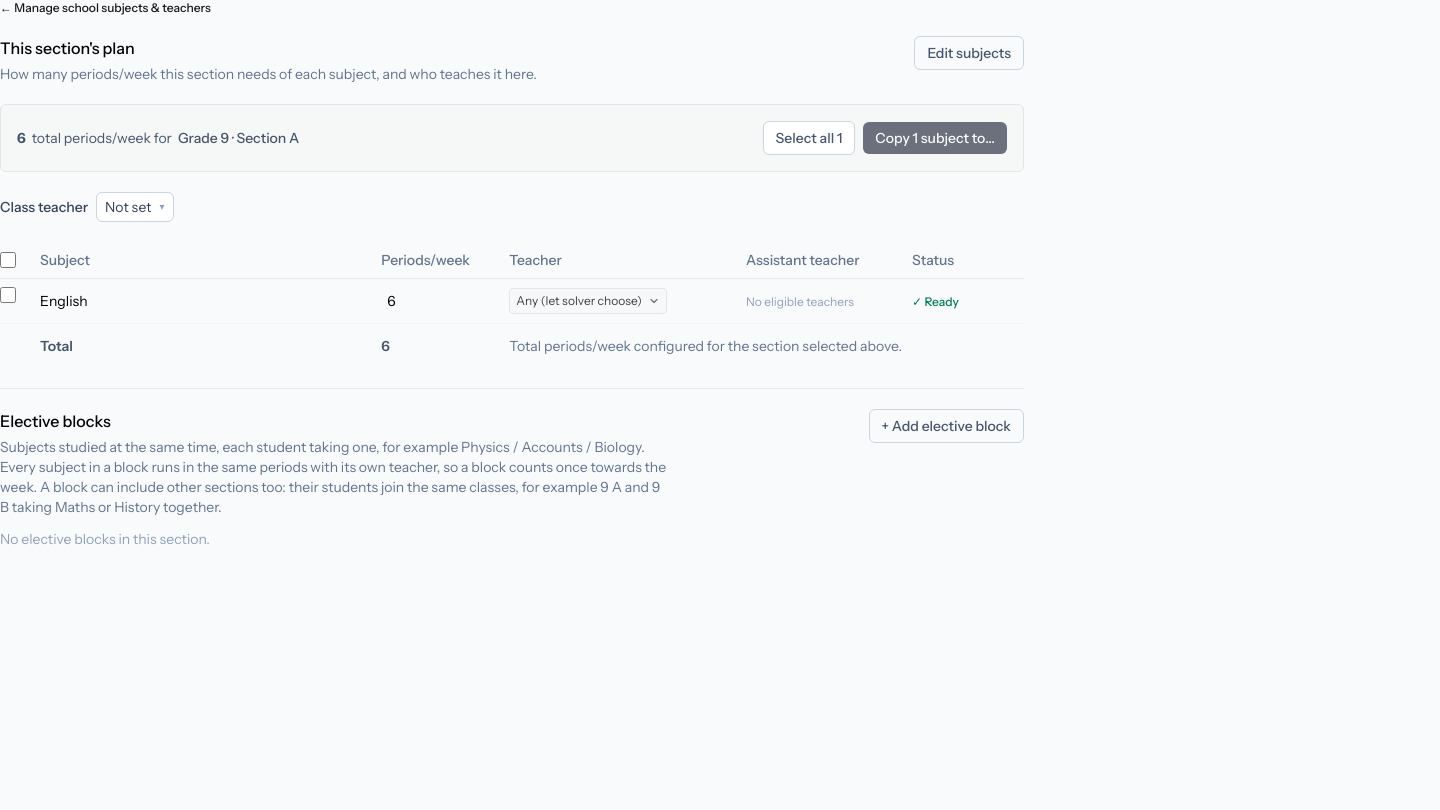
an older server that ignores teacher lists › says the list was not saved instead of silently showing Any
Click the button named "teachers for english" at (588, 301), box x1=509 y1=288 x2=667 y2=314
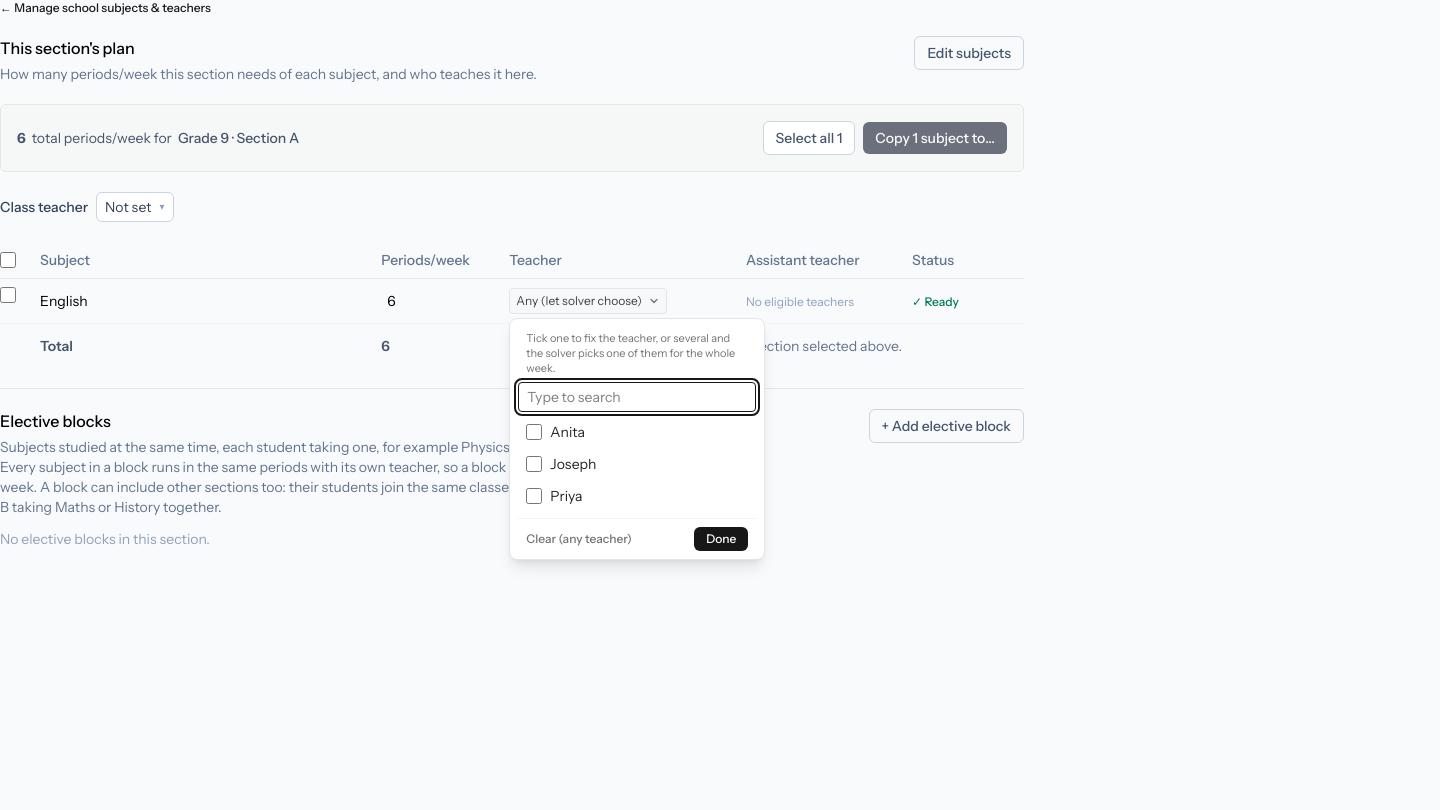
Click the checkbox labelled "Priya" at (534, 496), box x1=526 y1=488 x2=542 y2=504
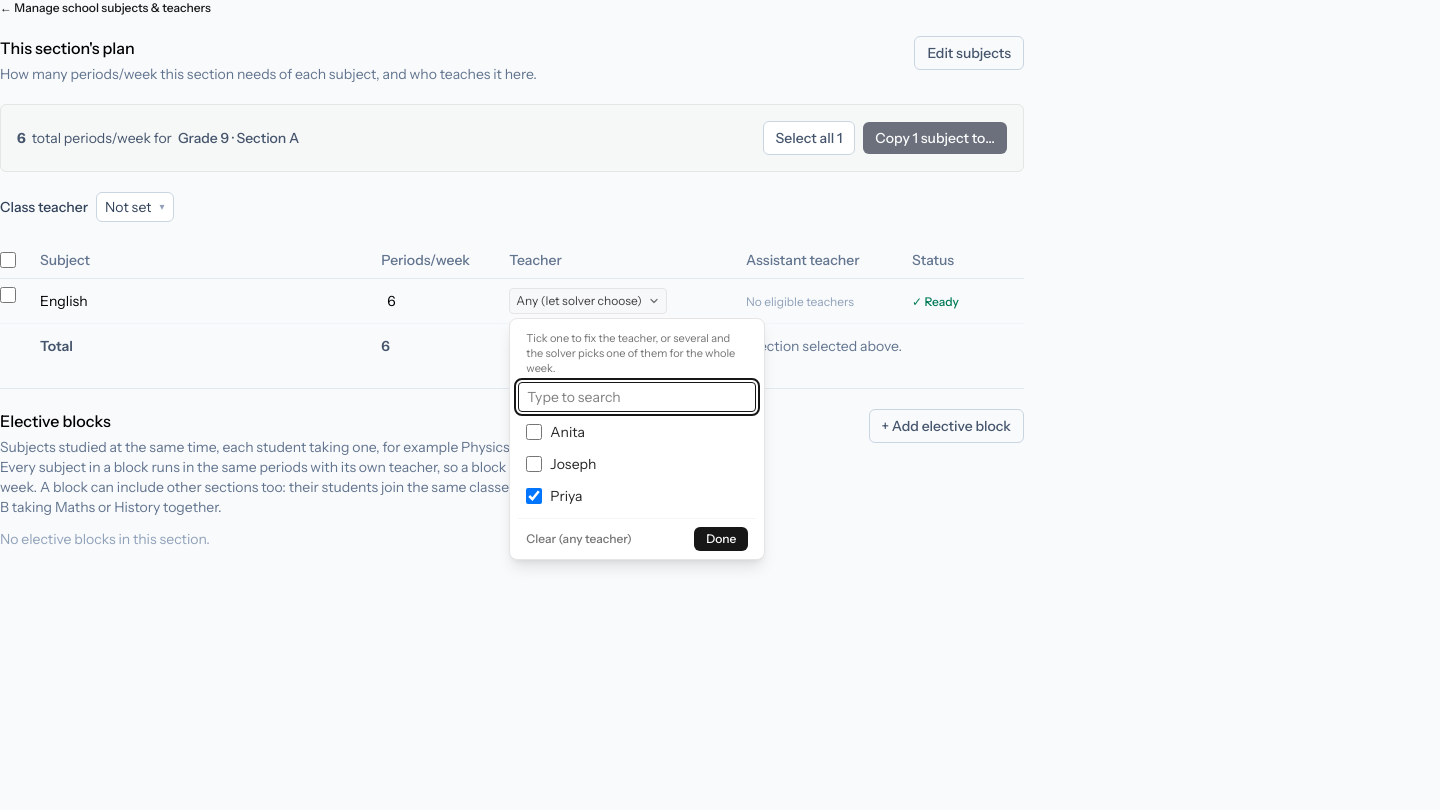
Click the checkbox labelled "Joseph" at (534, 464), box x1=526 y1=456 x2=542 y2=472
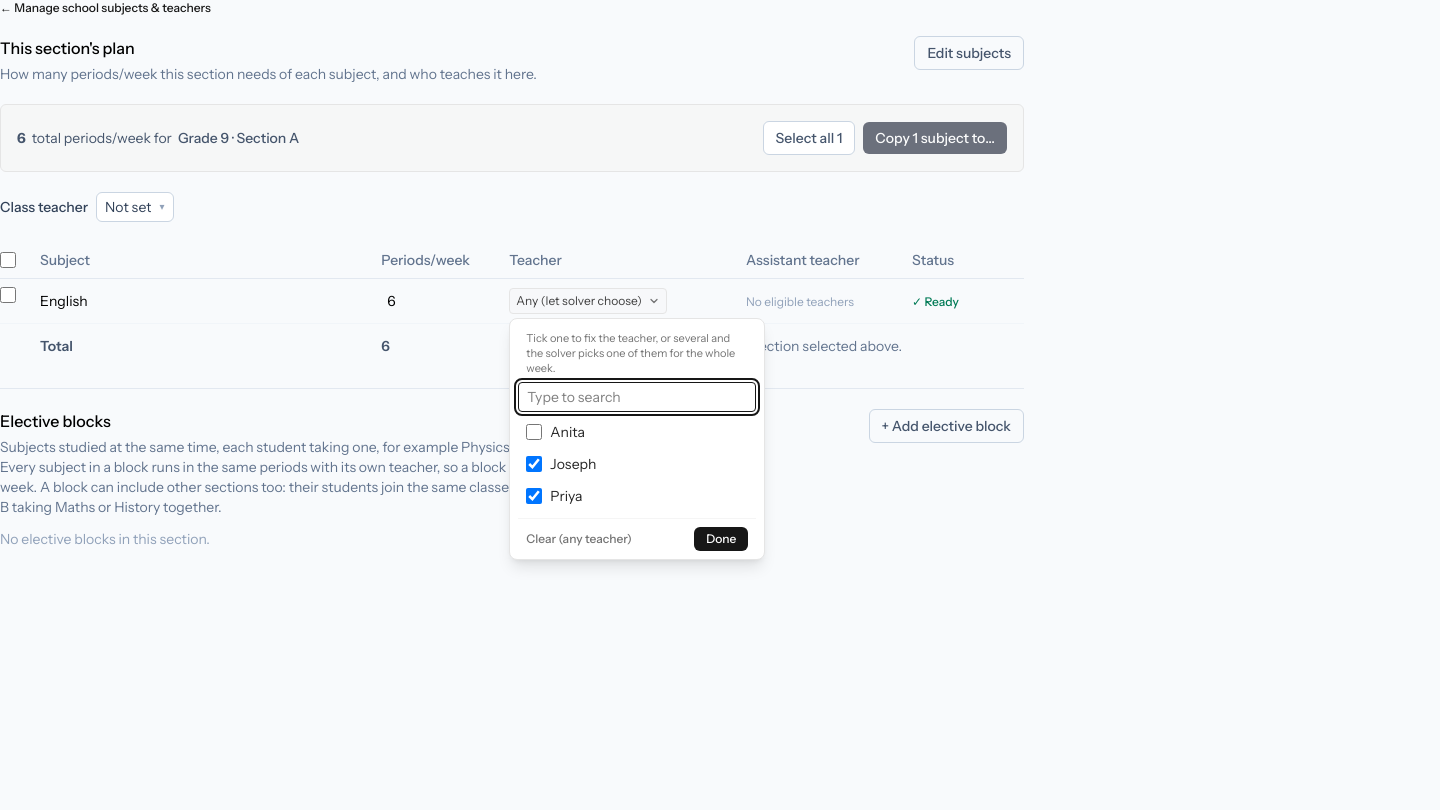
Click the button "Done" at (721, 539), box x1=694 y1=527 x2=748 y2=551
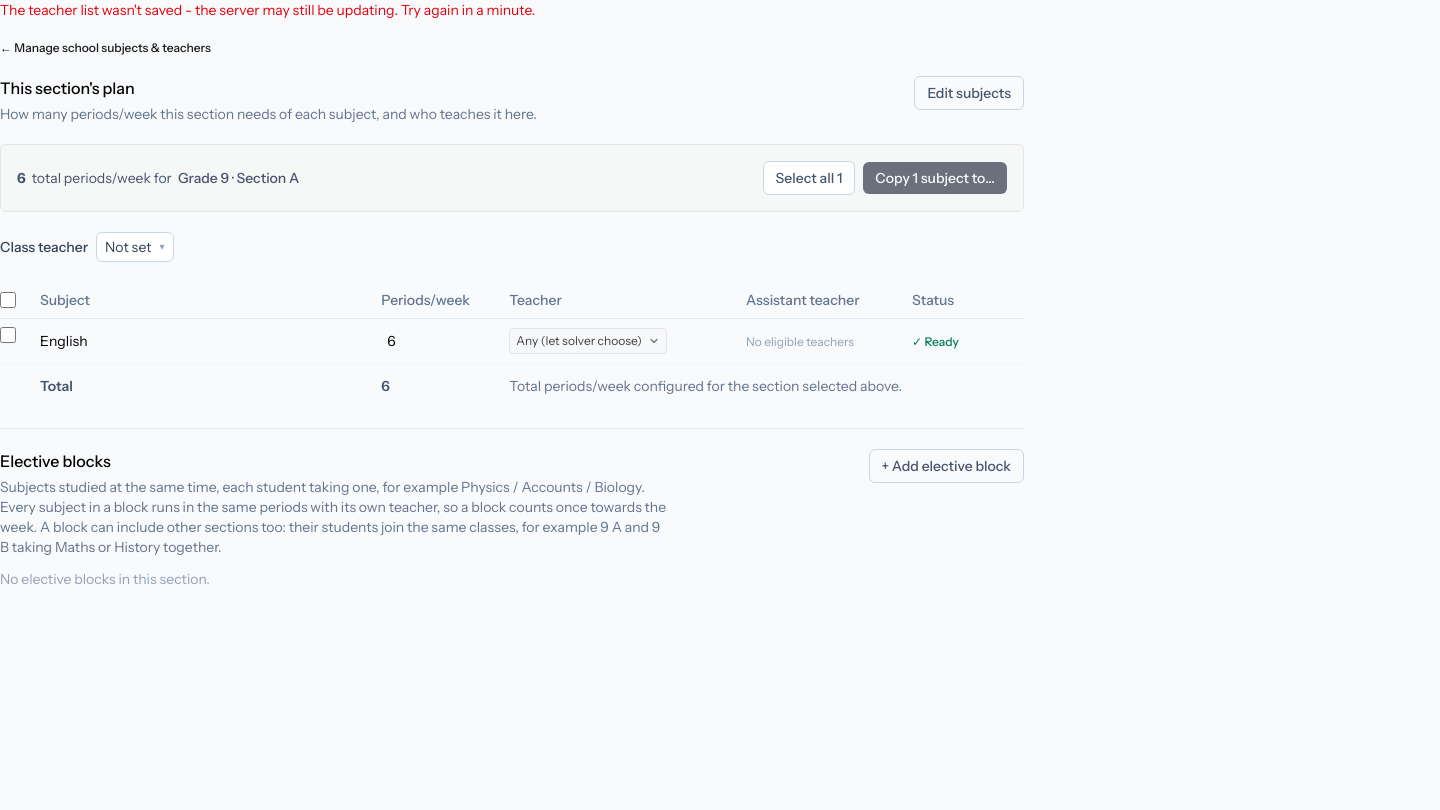
Now the text "teacher list wasn't saved" is shown, box x1=0 y1=1 x2=535 y2=19
